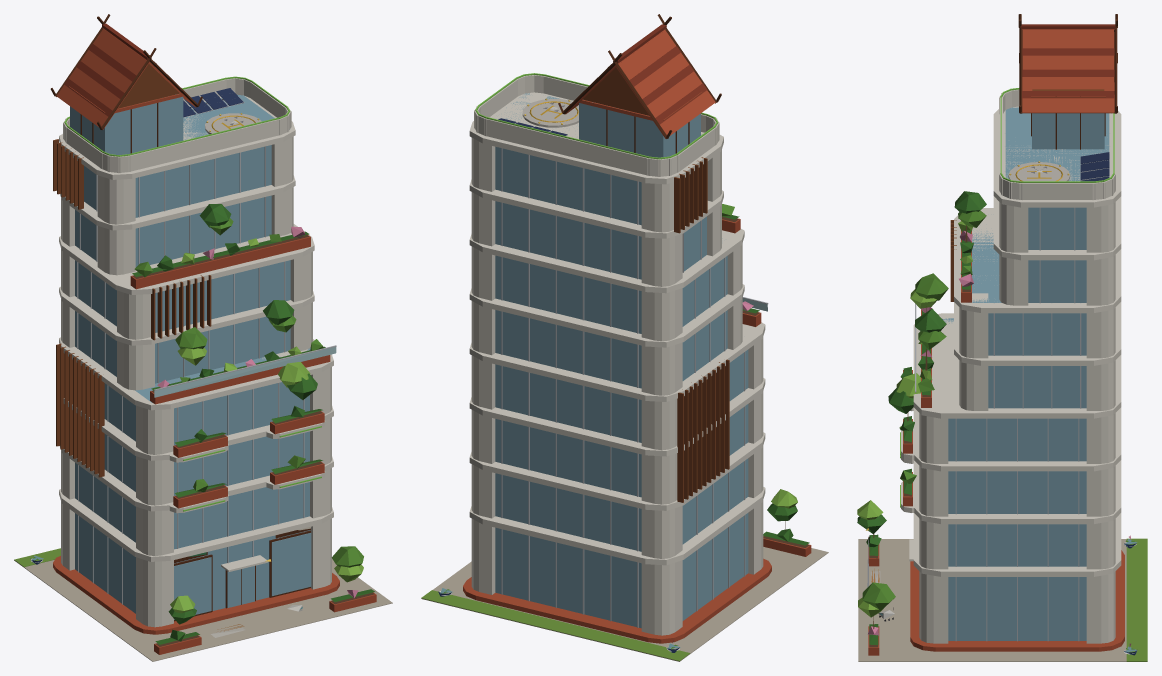
File: shop_3.glb
3 views of the same model, side by side, from view 1: azimuth 30°, elevation 25°; view 2: azimuth 150°, elevation 25°; view 3: azimuth 270°, elevation 25° (orthographic). The views are drawn at different scales.
Visible parts, largest first — view 1: body, windows; view 2: body, windows; view 3: body, windows.
Part boxes in pixels (box(x1,y1,x2,y2)): body: box(14, 14, 392, 661); windows: box(64, 76, 321, 609); body: box(421, 14, 828, 661); windows: box(475, 73, 718, 159); body: box(857, 14, 1147, 661); windows: box(866, 88, 1114, 615).
Size of the model in its own units: 15.9 by 34.09 by 15.95.
